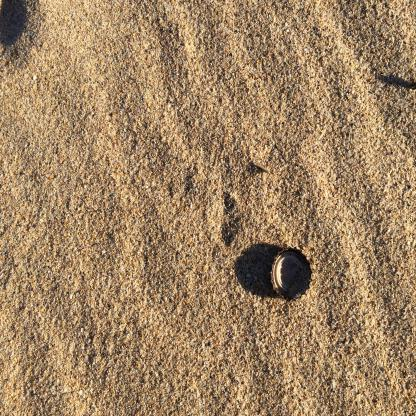Metal bottle cap: (270, 246, 313, 302)
